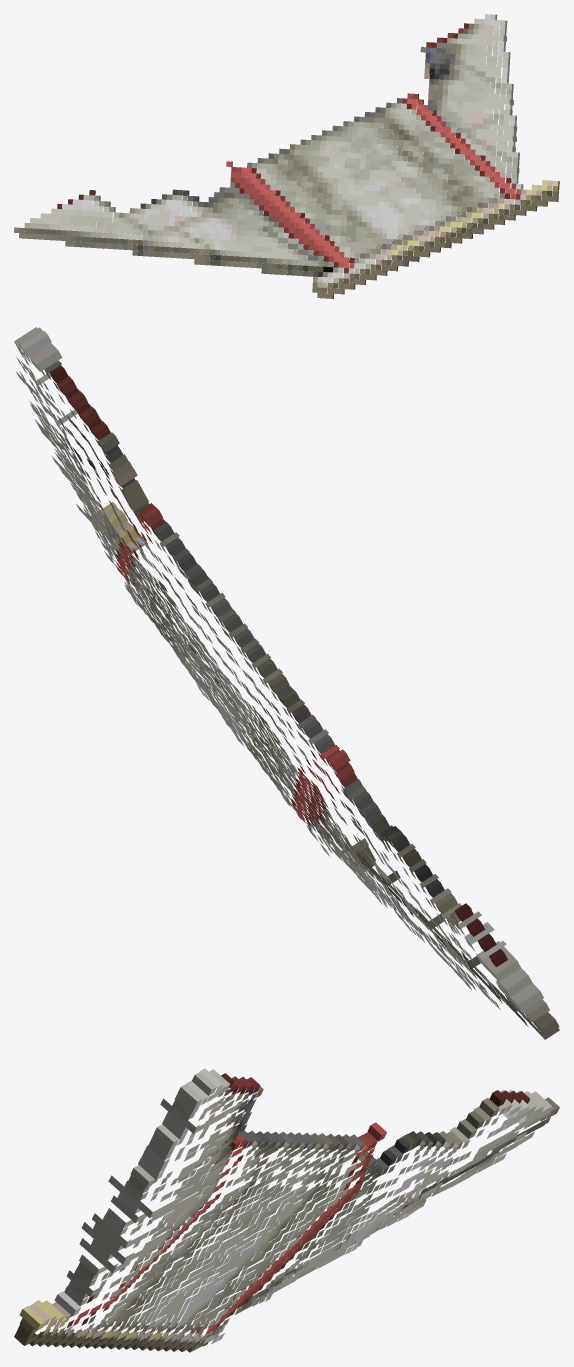
The model's file is ngweapbb.glb.
3 renders of one model, top to bottom at view 1: azimuth 30°, elevation 25°; view 2: azimuth 150°, elevation 25°; view 3: azimuth 270°, elevation 25°, orthographic. The views are drawn at different scales.
Parts seen in each view (by area): view 1: ngweapbb; view 2: ngweapbb; view 3: ngweapbb.
Boxes of the visible parts, x1,y1,x2,y2 form: ngweapbb: (14, 14, 559, 298); ngweapbb: (14, 327, 559, 1039); ngweapbb: (14, 1068, 559, 1352).
Bounding box in the file's own units: 1.85 × 1.09 × 1.3.
